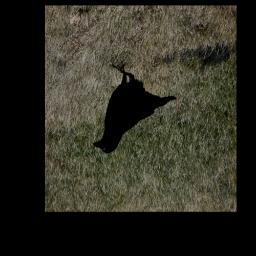Crow: (90, 64, 175, 156)
